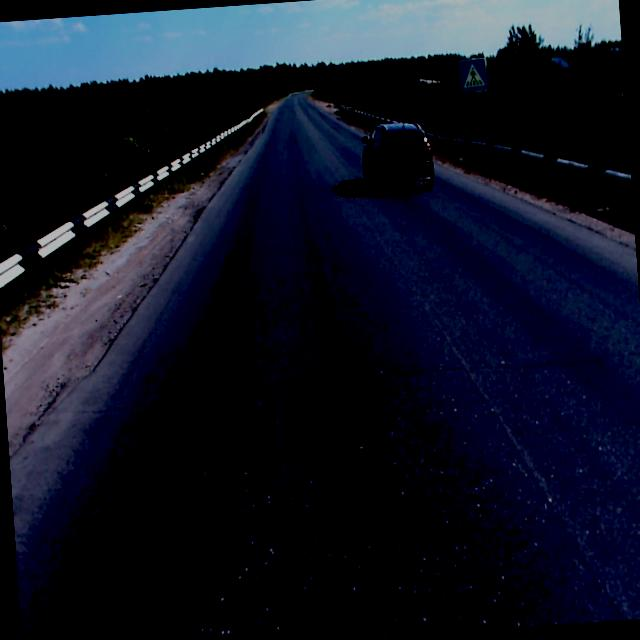road: (9, 90, 640, 640)
